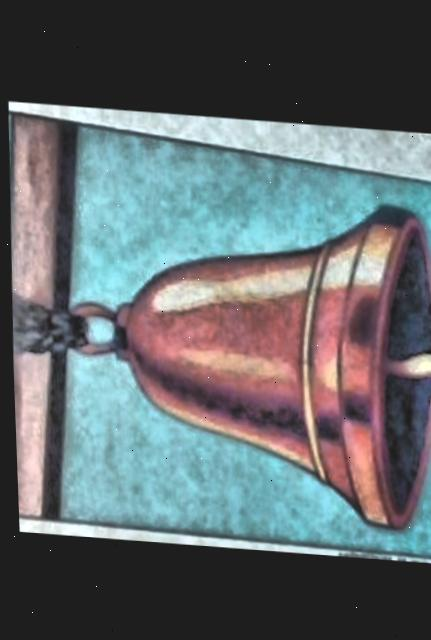La Campana: (7, 118, 431, 554)
